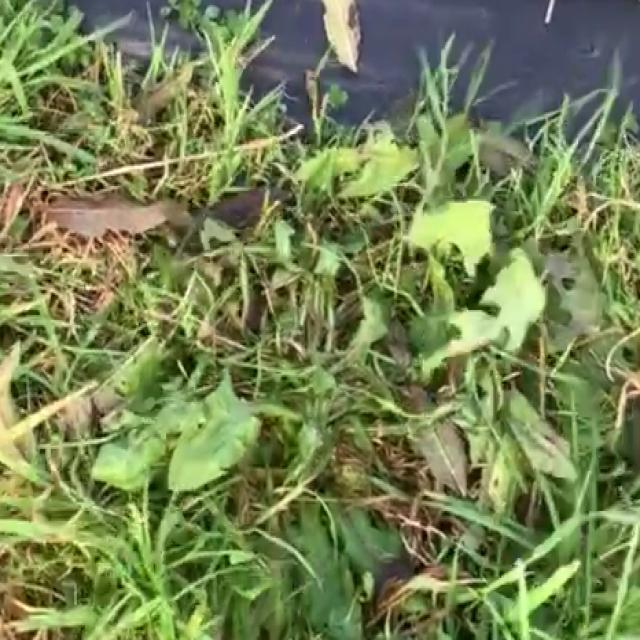organic waste: (258, 82, 580, 481), (128, 296, 444, 630)
